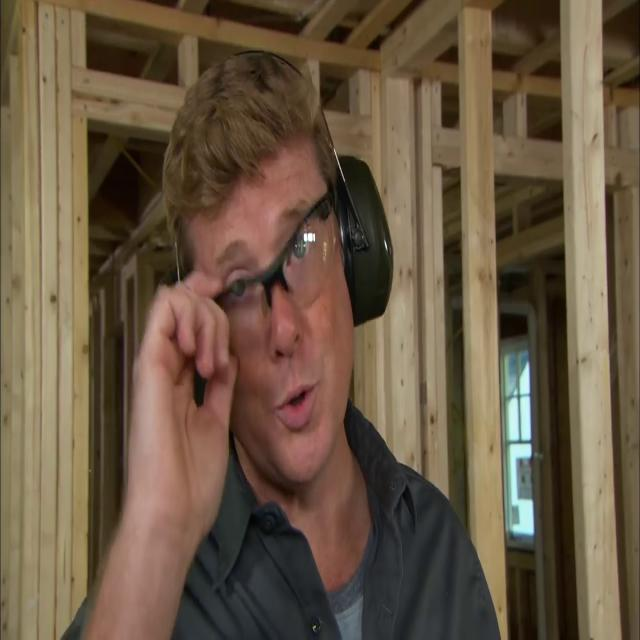earmuff: (332, 142, 397, 330)
glasses: (197, 192, 341, 369)
helmet: (160, 28, 335, 228), (232, 306, 362, 486)
